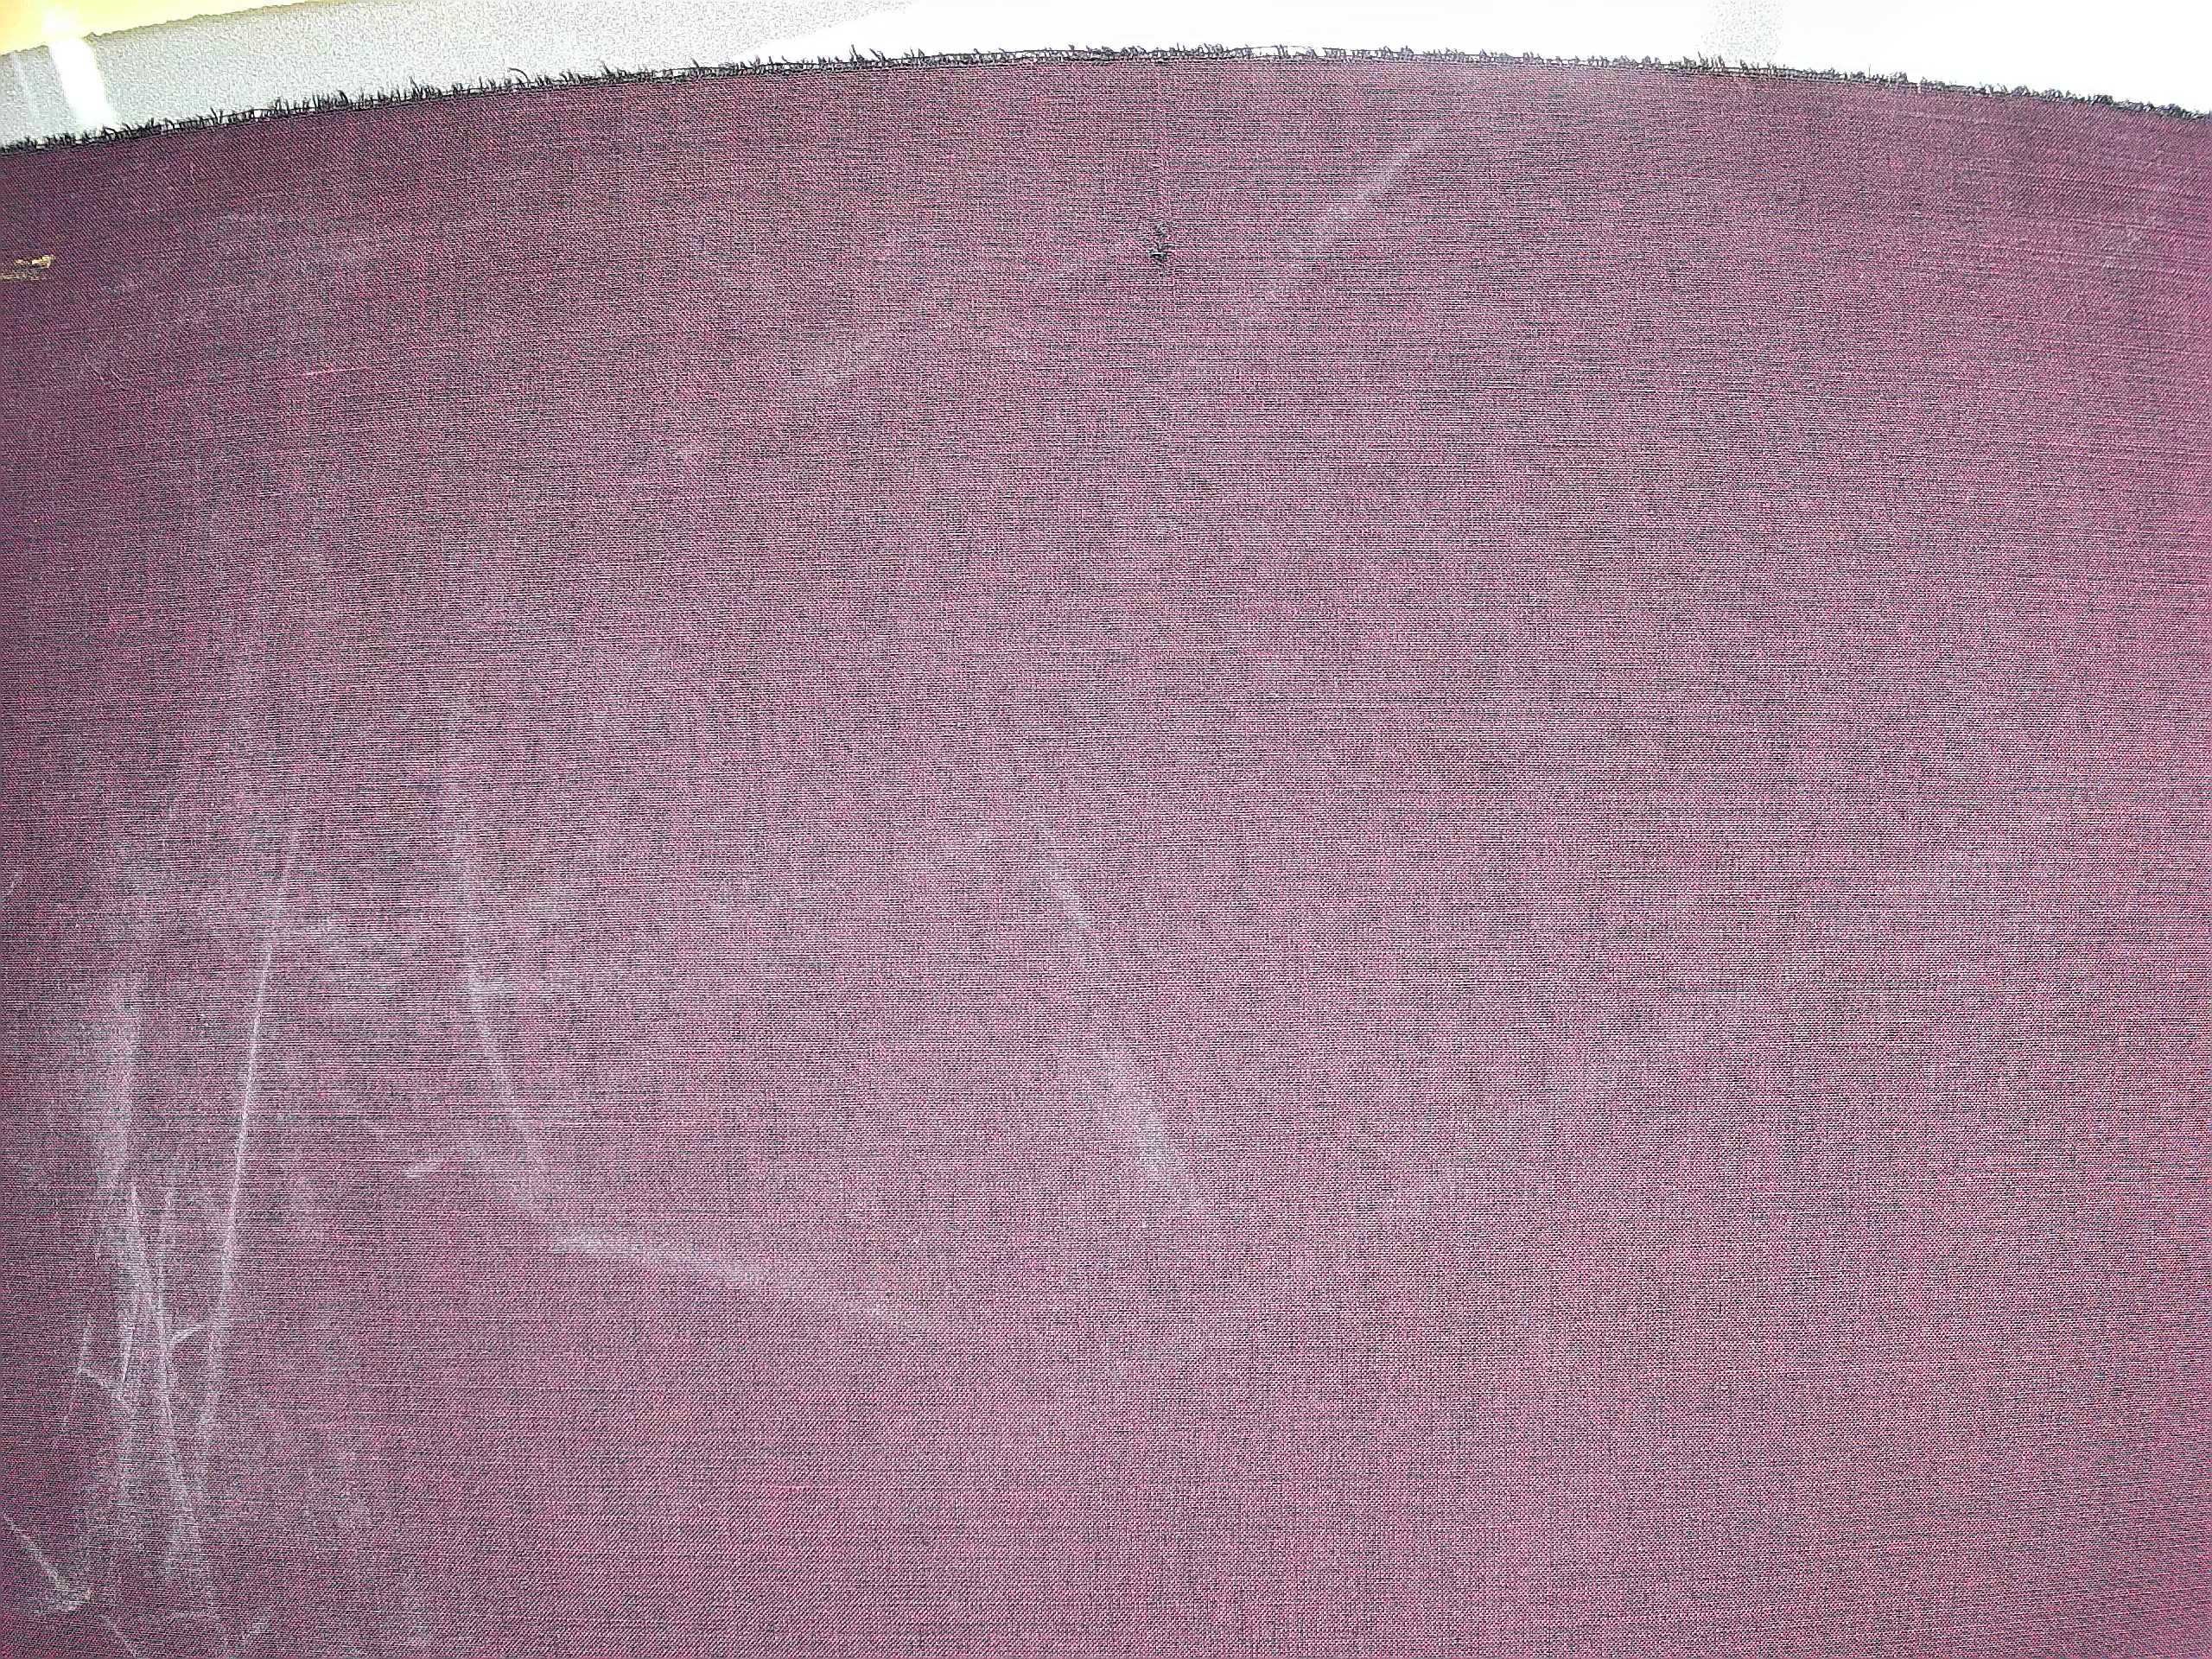jumps: (1116, 207, 1197, 296)
stains: (61, 748, 380, 1584)
